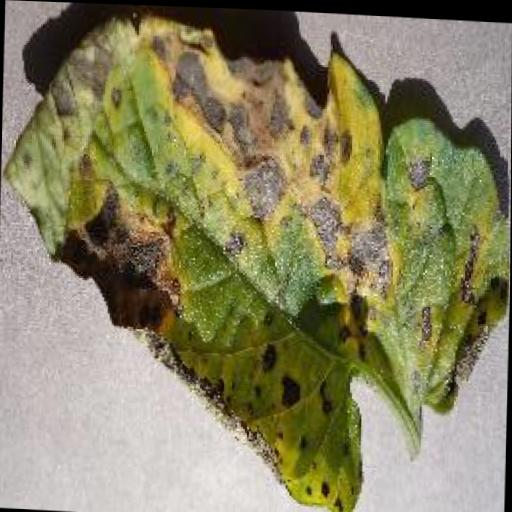Early Blight: (0, 8, 512, 512)
